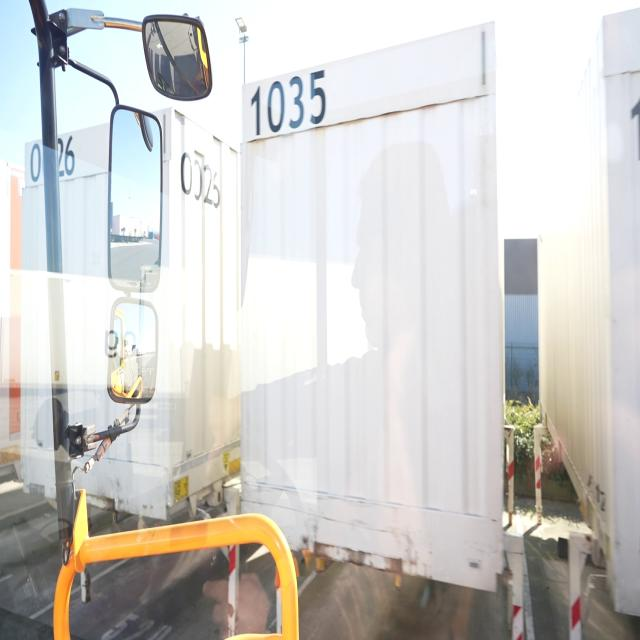Code: (242, 67, 344, 140), (173, 142, 230, 218)
